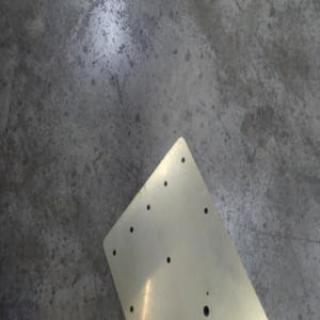MetalSheettrack_idkeyframe: (99, 130, 271, 319)
